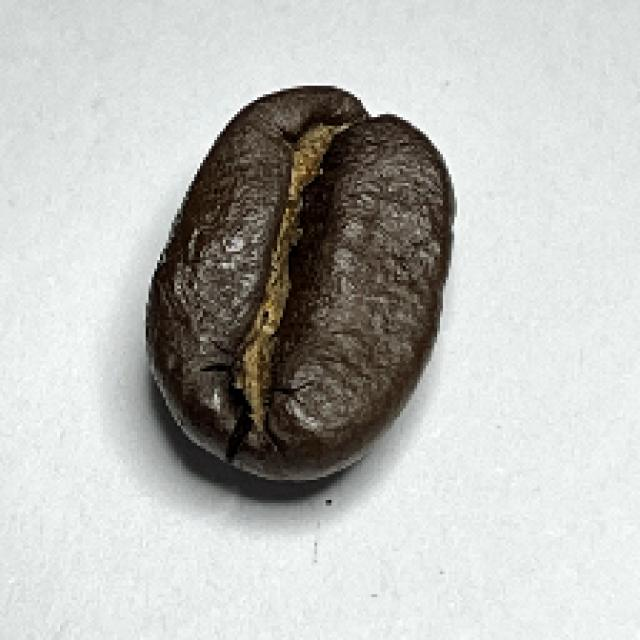bean: (140, 80, 460, 488)
